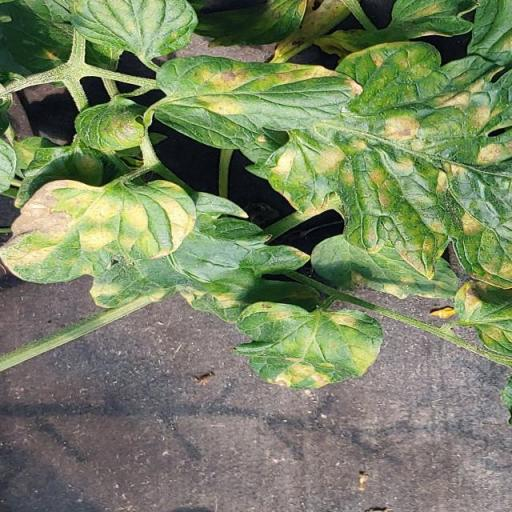disease_tomato: (262, 42, 512, 292), (90, 190, 321, 322), (2, 171, 198, 282), (238, 297, 384, 391), (154, 54, 363, 118), (310, 234, 462, 300), (74, 95, 148, 152)
